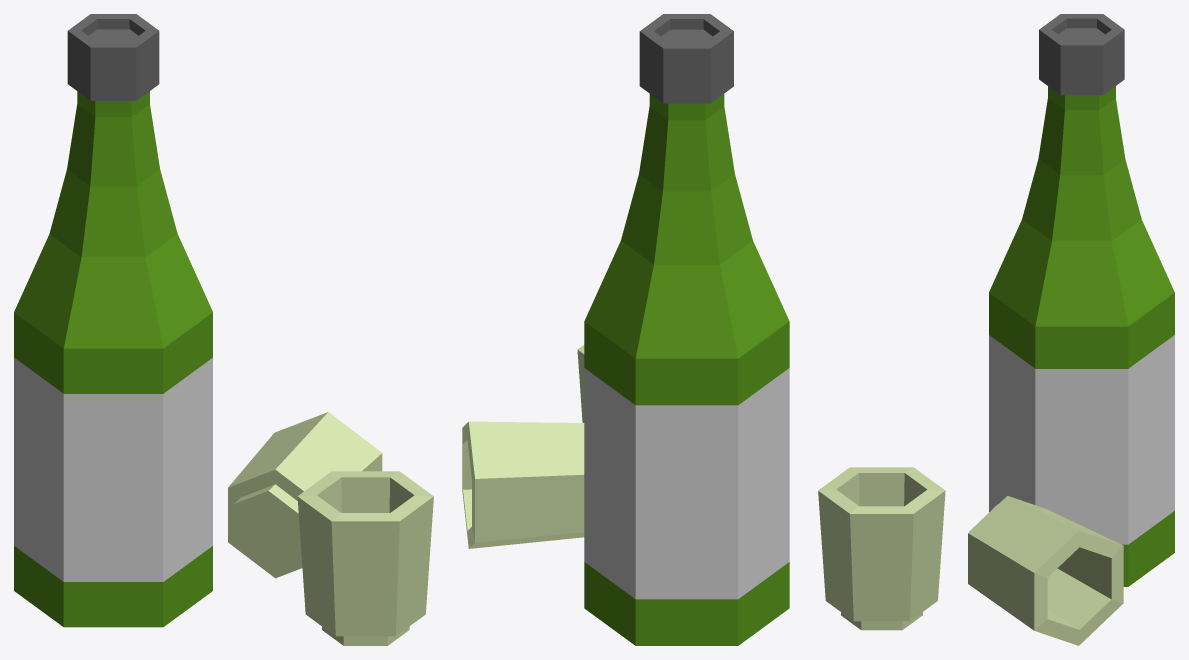
3 views of the same model, side by side, from view 1: azimuth 30°, elevation 25°; view 2: azimuth 150°, elevation 25°; view 3: azimuth 270°, elevation 25° (orthographic). The views are drawn at different scales.
Parts seen in each view (by area): view 1: drink; view 2: drink; view 3: drink.
Boxes of the visible parts, bbox=[...] form: drink: bbox=[14, 14, 433, 645]; drink: bbox=[462, 14, 789, 645]; drink: bbox=[818, 14, 1174, 645].
Bounding box in the file's own units: 1.46 × 2.45 × 1.51.
